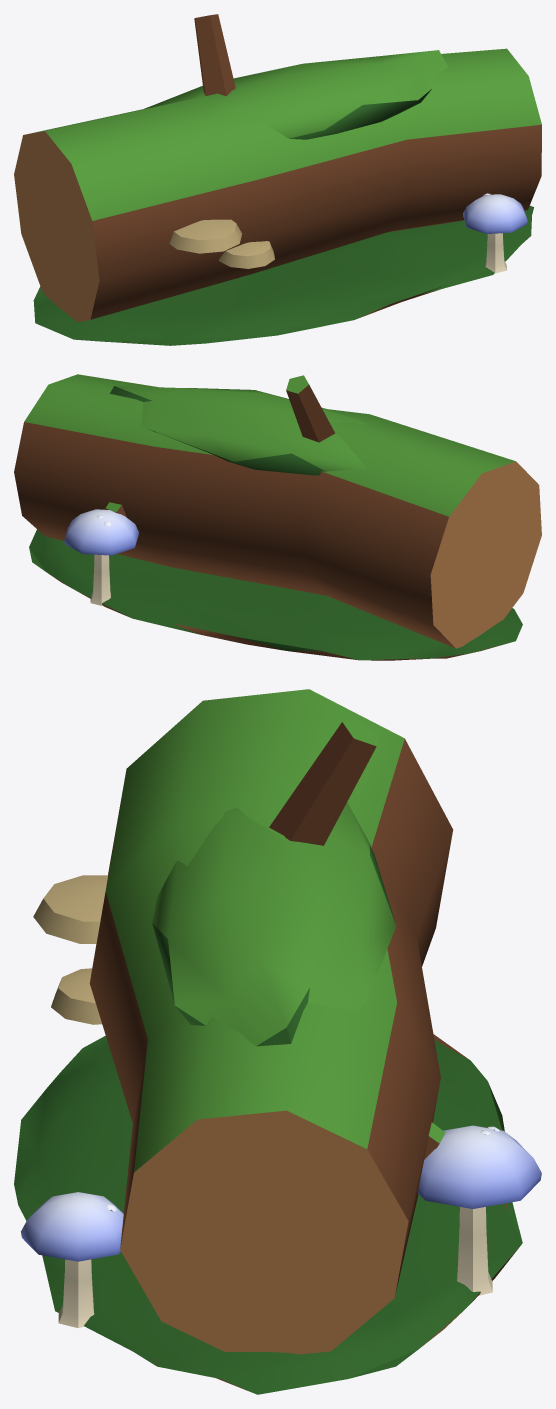
File: FallenLog.fbx
3 renders of one model, top to bottom at view 1: azimuth 30°, elevation 25°; view 2: azimuth 150°, elevation 25°; view 3: azimuth 270°, elevation 25°, orthographic. The views are drawn at different scales.
Visible parts, largest first — view 1: FallenLog; view 2: FallenLog; view 3: FallenLog.
Part boxes in pixels (x1,y1,x2,y2): FallenLog: (14,14,541,345); FallenLog: (14,374,541,660); FallenLog: (14,689,541,1394).
Size of the model in its own units: 1.74 by 0.8333 by 0.9364.
2 materials, 2 textured.
